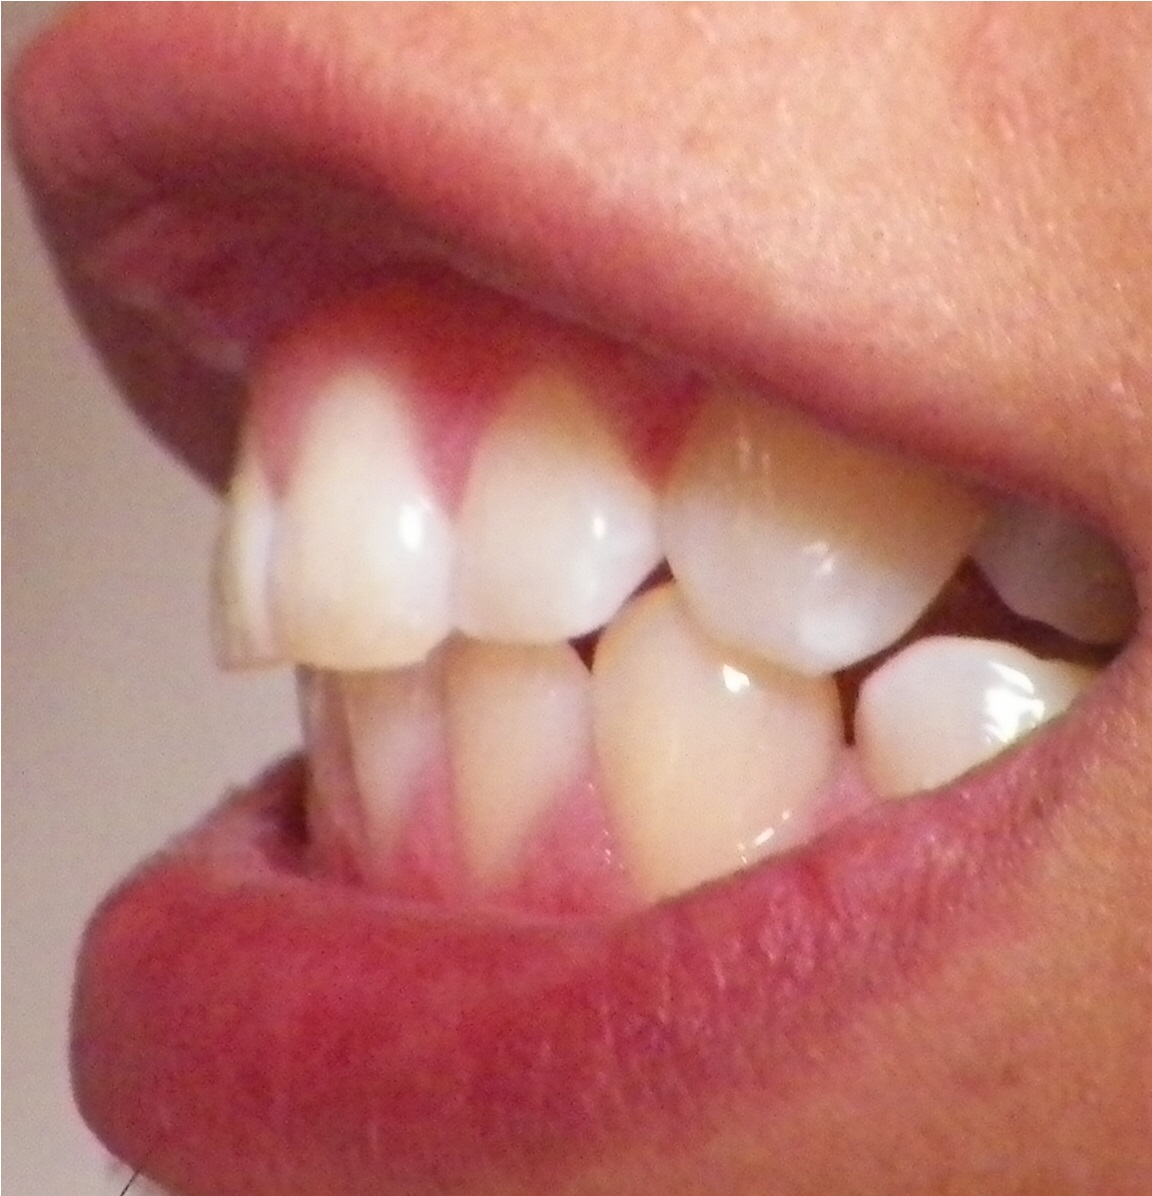boca: (218, 378, 1114, 876)
